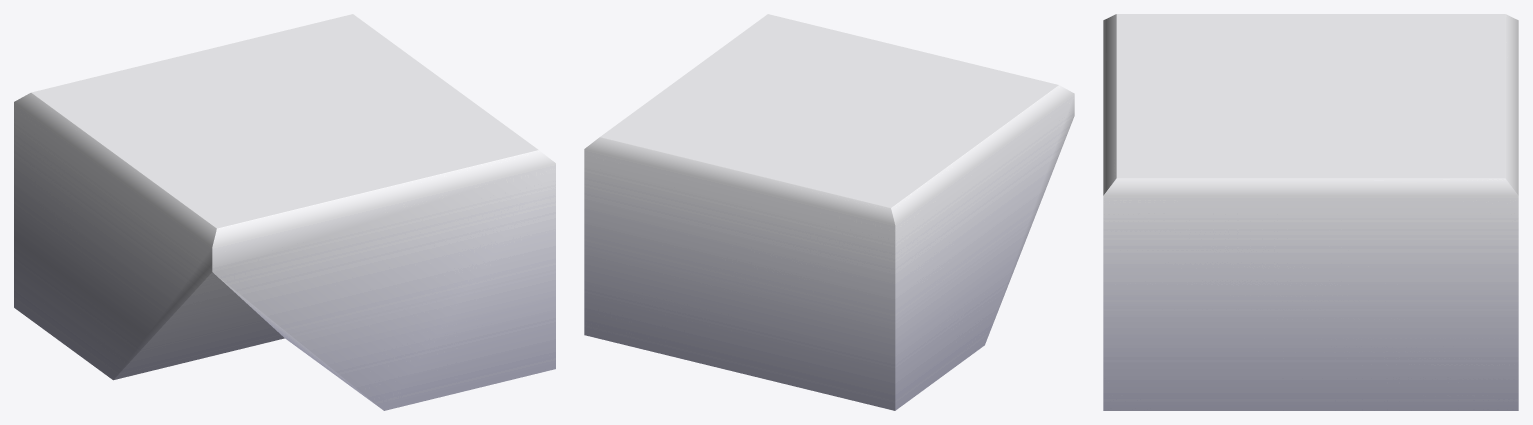
The model's file is none-hq-brick-slope-corner-inside-inverted-2x2.glb.
3 renders of one model, left to right at view 1: azimuth 30°, elevation 25°; view 2: azimuth 150°, elevation 25°; view 3: azimuth 270°, elevation 25°, orthographic. The views are drawn at different scales.
Visible parts, largest first — view 1: none-hq-brick-slope-corner-inside-inverted-2x2; view 2: none-hq-brick-slope-corner-inside-inverted-2x2; view 3: none-hq-brick-slope-corner-inside-inverted-2x2.
Part boxes in pixels (x1,y1,x2,y2): none-hq-brick-slope-corner-inside-inverted-2x2: (14, 14, 555, 410); none-hq-brick-slope-corner-inside-inverted-2x2: (584, 14, 1074, 410); none-hq-brick-slope-corner-inside-inverted-2x2: (1103, 14, 1518, 410).
Size of the model in its own units: 0.795 by 0.48 by 0.795.
Materials: 1 (1 with a texture image).
